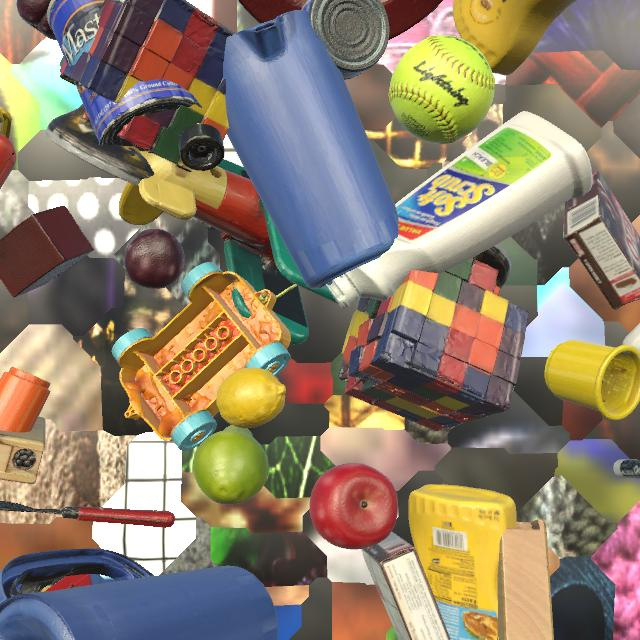ycb_002_master_chef_can: (47, 0, 202, 147)
ycb_006_mustard_bottle: (408, 484, 517, 640), (452, 0, 577, 75)
ycb_007_tuna_fish_can: (301, 0, 389, 80)
ycb_008_pudding_box: (563, 170, 640, 310), (362, 531, 451, 640)
ycb_013_apple: (309, 463, 398, 549)
ycb_014_lemon: (216, 368, 286, 428)
ycb_016_pear: (193, 425, 268, 504)
ycb_018_plum: (124, 229, 185, 289), (17, 0, 57, 40)
